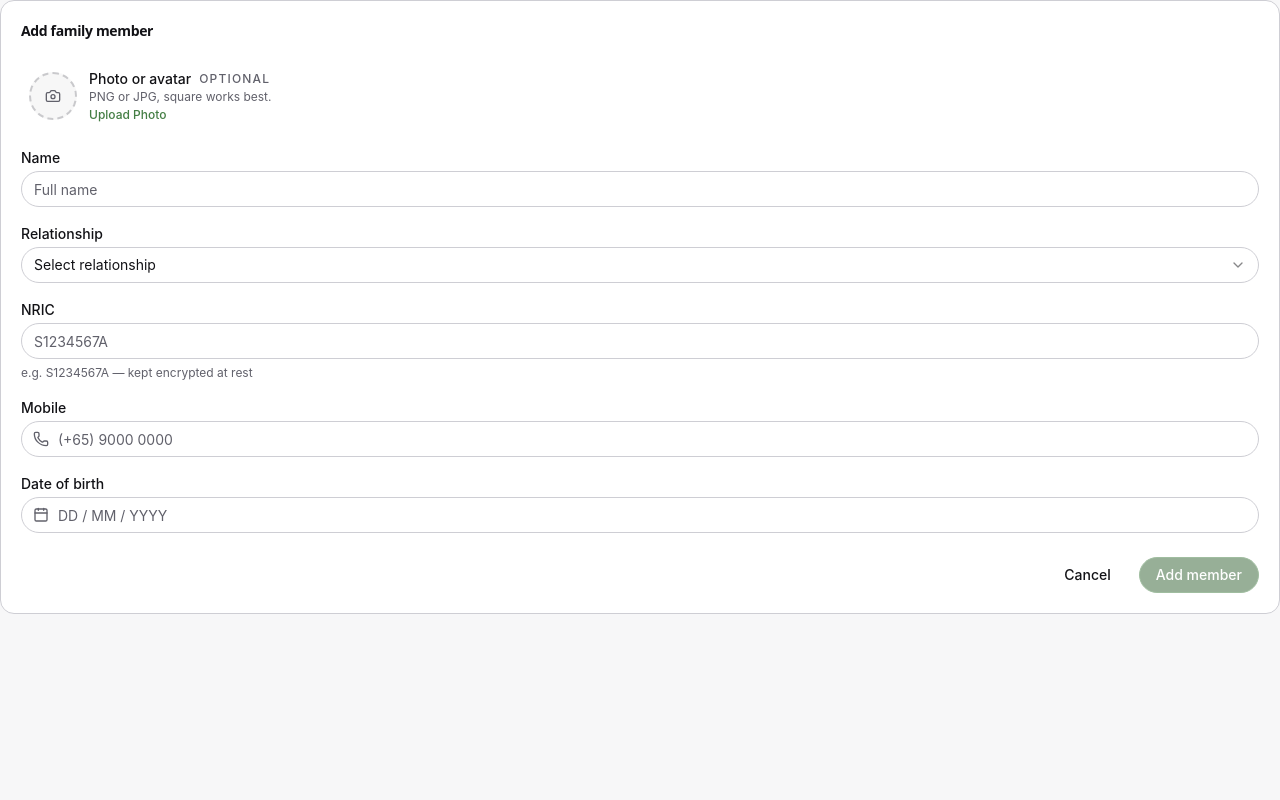
Test case: FamilyMemberForm — submit gating › errors stay quiet until the first submit, then clear in real time
Expected: the text "Name is required" is not shown
Submit the form
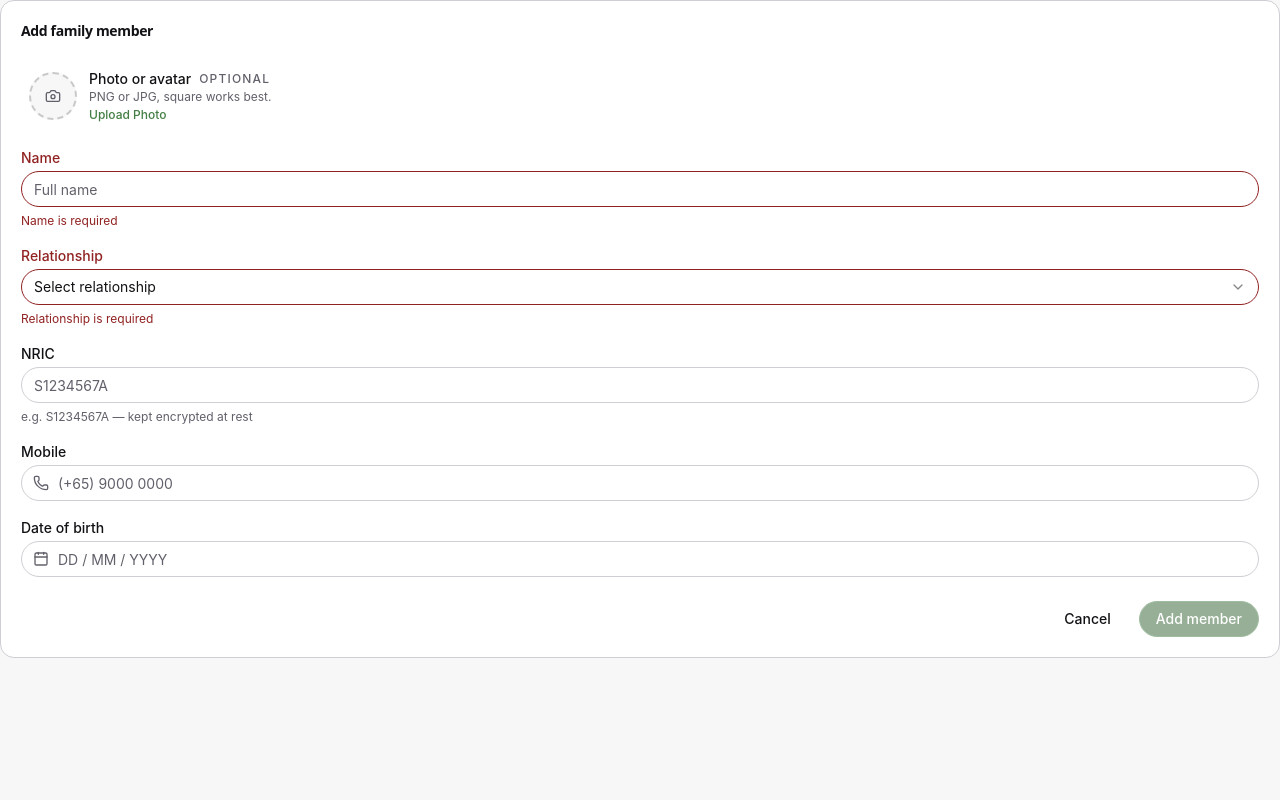
Expected: the text "Name is required" is shown, [21,213,118,228]
Expected: the text "Relationship is required" is shown, [21,311,153,326]
Type "Aisha Rahman" into the field labelled "Name" at (640, 189), box [21,171,1259,207]
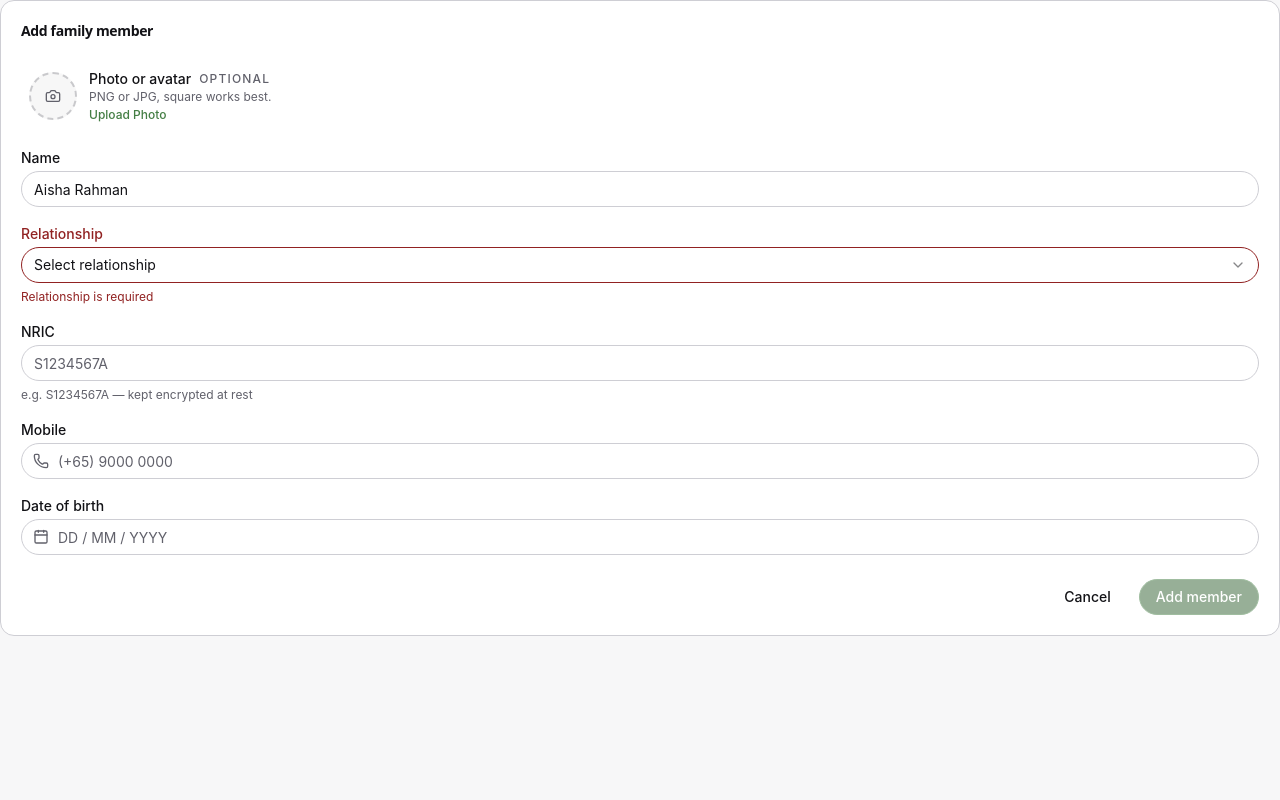
Expected: the text "Name is required" is gone
